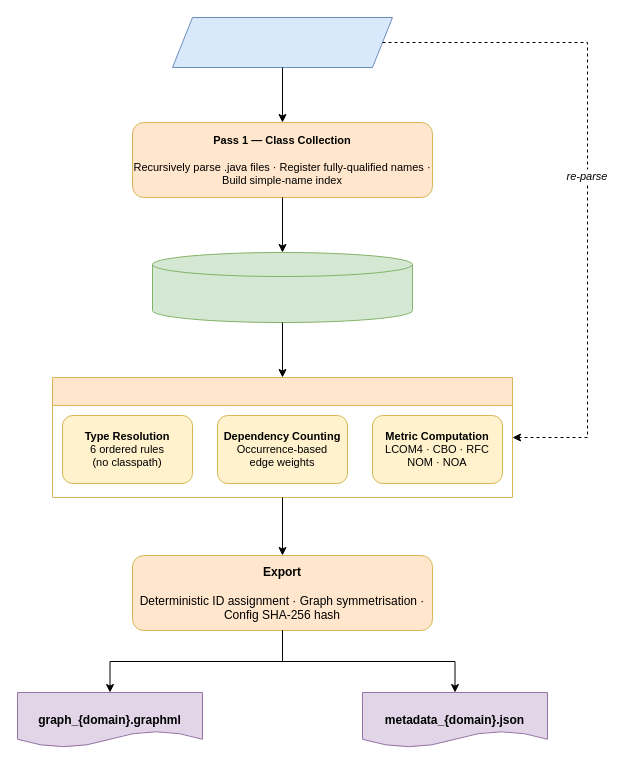
This 626x765 diagram has some shape labels left out. Here are the shapes that lost their labels. From the top down, the box of each, then its label:
(172, 16, 392, 68): Java Source Files (.java)
(152, 252, 412, 322): Symbol Table inner_classes · simple_name_index · domain_by_class
(52, 376, 512, 498): Pass 2 — Dependency and Metric Extraction
